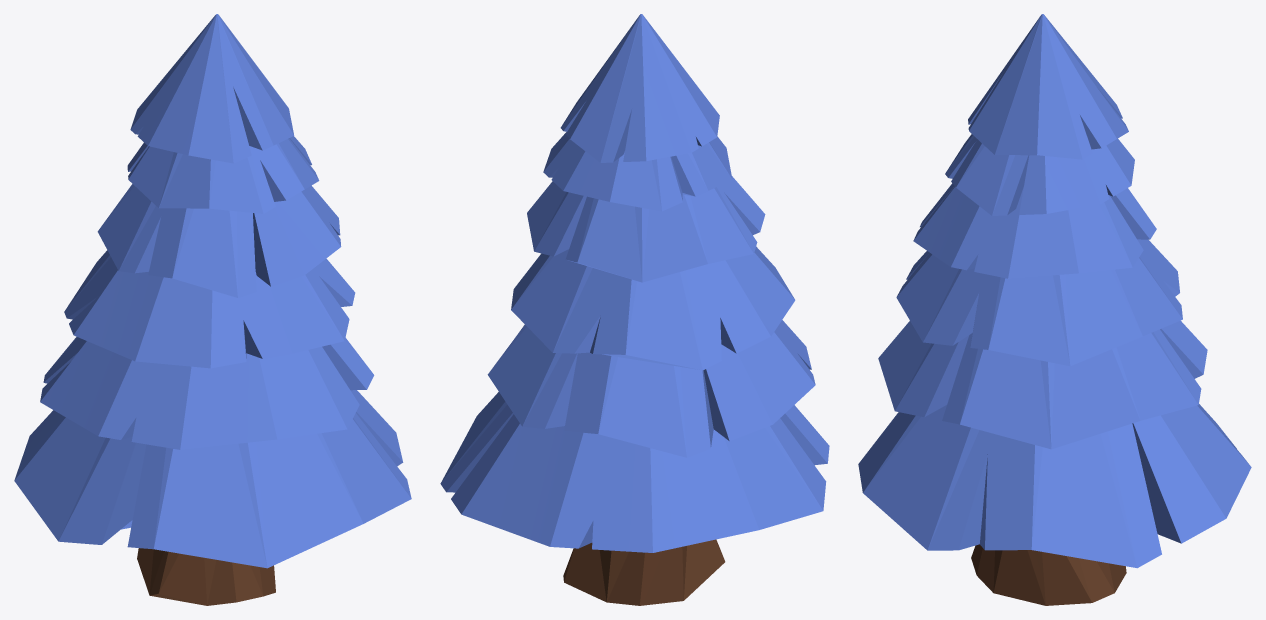
The model's file is tree1.fbx.
3 renders of one model, left to right at view 1: azimuth 30°, elevation 25°; view 2: azimuth 150°, elevation 25°; view 3: azimuth 270°, elevation 25°, orthographic. The views are drawn at different scales.
Visible parts, largest first — view 1: Tree__7_, Cylinder; view 2: Tree__7_, Cylinder; view 3: Tree__7_, Cylinder.
Boxes of the visible parts, <box> form: Tree__7_: <box>14,14,411,568</box>; Cylinder: <box>137,548,275,605</box>; Tree__7_: <box>440,14,829,552</box>; Cylinder: <box>563,539,725,605</box>; Tree__7_: <box>858,14,1251,568</box>; Cylinder: <box>971,544,1126,605</box>.
Bounding box in the file's own units: 902 × 1436 × 897.
